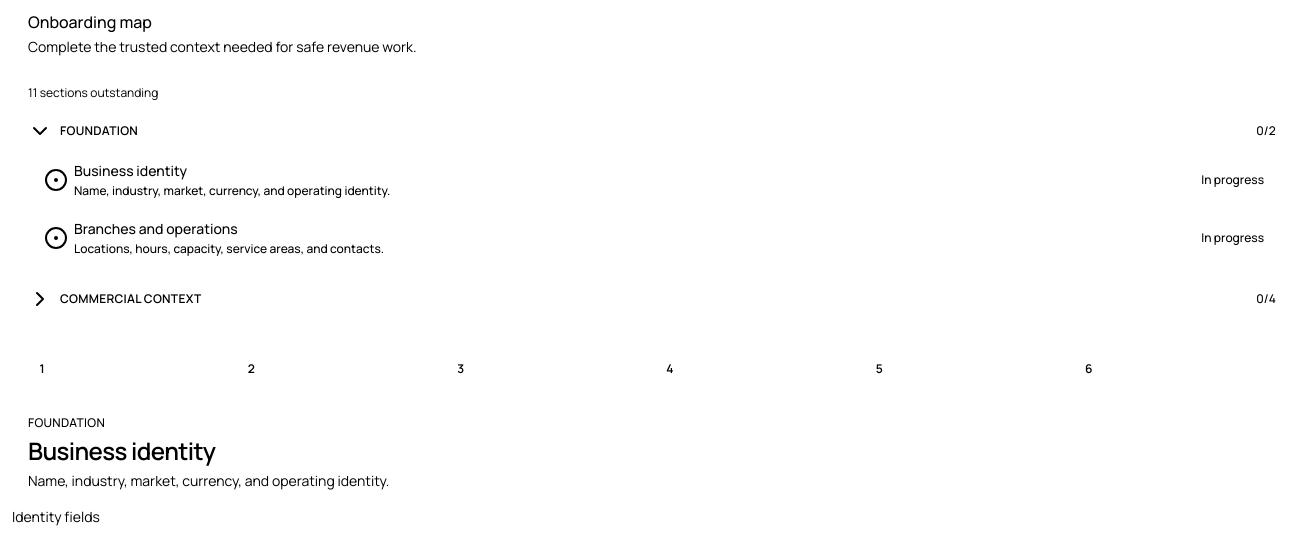
Test: OnboardingWorkspace › focuses the active section heading after navigation
This screenshot has width=1292, height=543.
Click the button "Branches and operations" at (156, 228), box [32,211,1284,265]
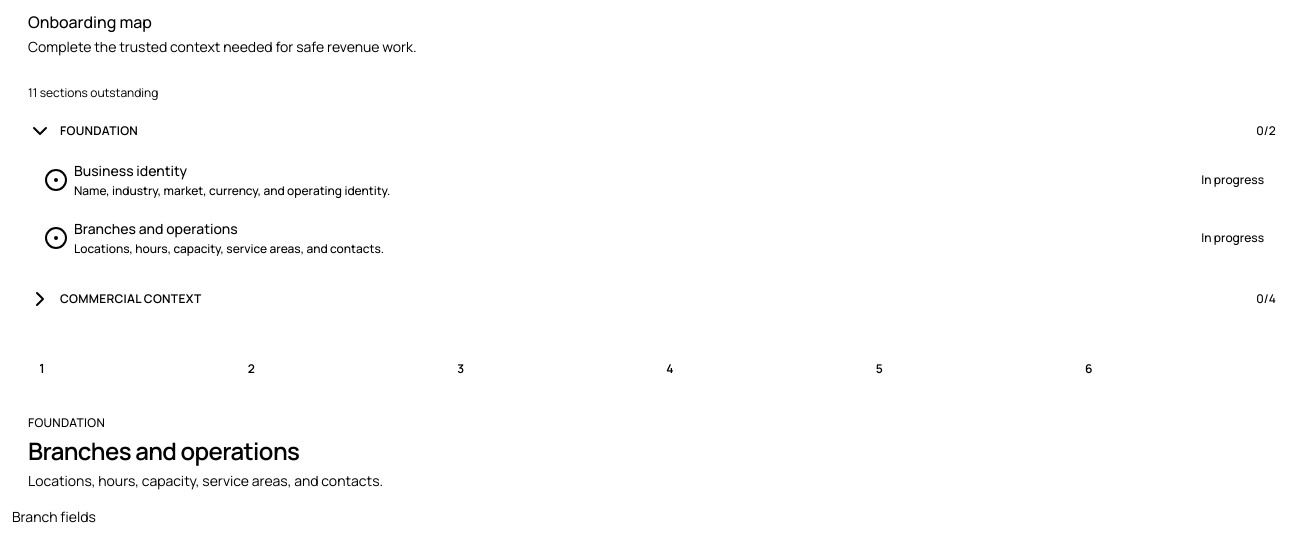
Check: the text "Branch fields" is shown, box [12,507,96,526]
